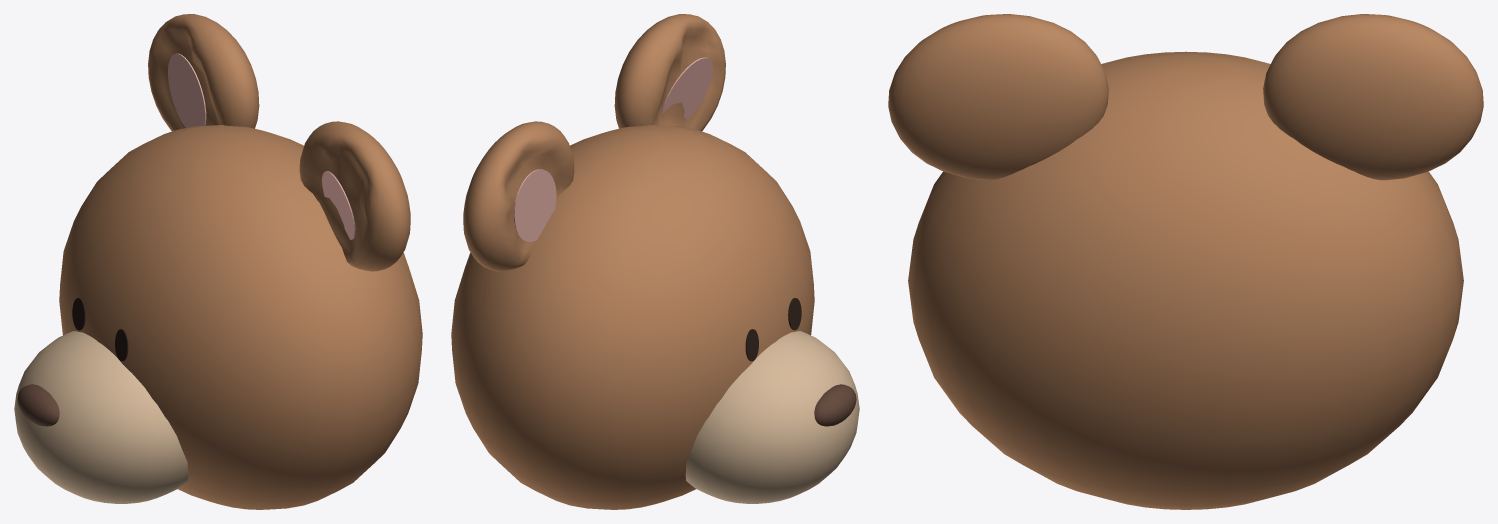
Rendered from bear.fbx.
3 renders of one model, left to right at view 1: azimuth 30°, elevation 25°; view 2: azimuth 150°, elevation 25°; view 3: azimuth 270°, elevation 25°, orthographic. The views are drawn at different scales.
Visible parts, largest first — view 1: Head, Sphere.003, Sphere.001, Sphere.002, Cylinder.003, Sphere.004, Cylinder.002; view 2: Head, Sphere.003, Sphere.002, Sphere.001, Cylinder.003, Cylinder.002, Sphere.004; view 3: Head, Sphere.001, Sphere.002.
Part boxes in pixels (bbox=[...]): Head: bbox=[59, 125, 422, 509]; Sphere.003: bbox=[14, 331, 188, 503]; Sphere.001: bbox=[299, 121, 410, 271]; Sphere.002: bbox=[148, 14, 259, 131]; Cylinder.003: bbox=[168, 53, 206, 127]; Sphere.004: bbox=[17, 384, 59, 426]; Cylinder.002: bbox=[322, 171, 355, 239]; Head: bbox=[451, 125, 814, 509]; Sphere.003: bbox=[685, 331, 859, 503]; Sphere.002: bbox=[463, 121, 574, 271]; Sphere.001: bbox=[614, 14, 725, 131]; Cylinder.003: bbox=[513, 169, 556, 241]; Cylinder.002: bbox=[662, 57, 712, 119]; Sphere.004: bbox=[814, 384, 856, 426]; Head: bbox=[908, 51, 1463, 509]; Sphere.001: bbox=[888, 14, 1108, 180]; Sphere.002: bbox=[1263, 14, 1483, 180].
Size of the model in its own units: 1.68 by 1.8 by 1.95.
